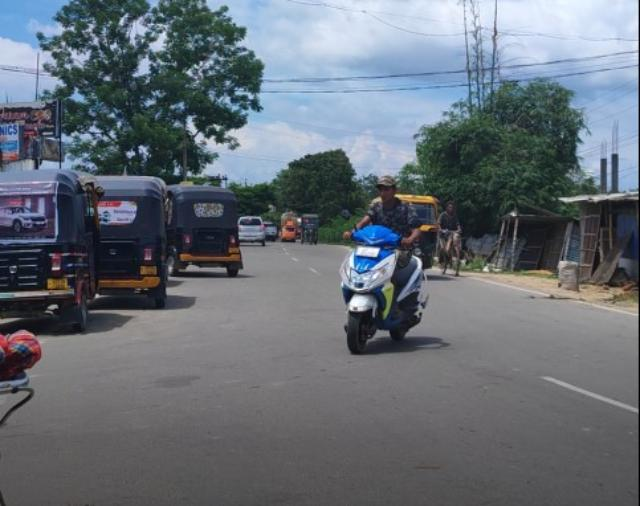licensePlate: (355, 246, 383, 257)
motorcycle: (337, 173, 427, 356)
withoutHelmet: (374, 177, 399, 205)
